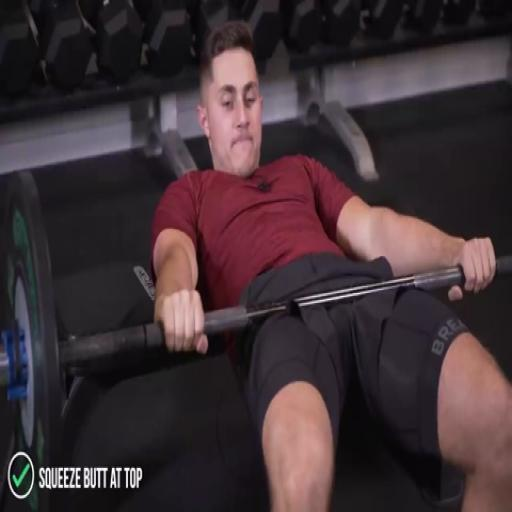exercise: (147, 20, 511, 510)
